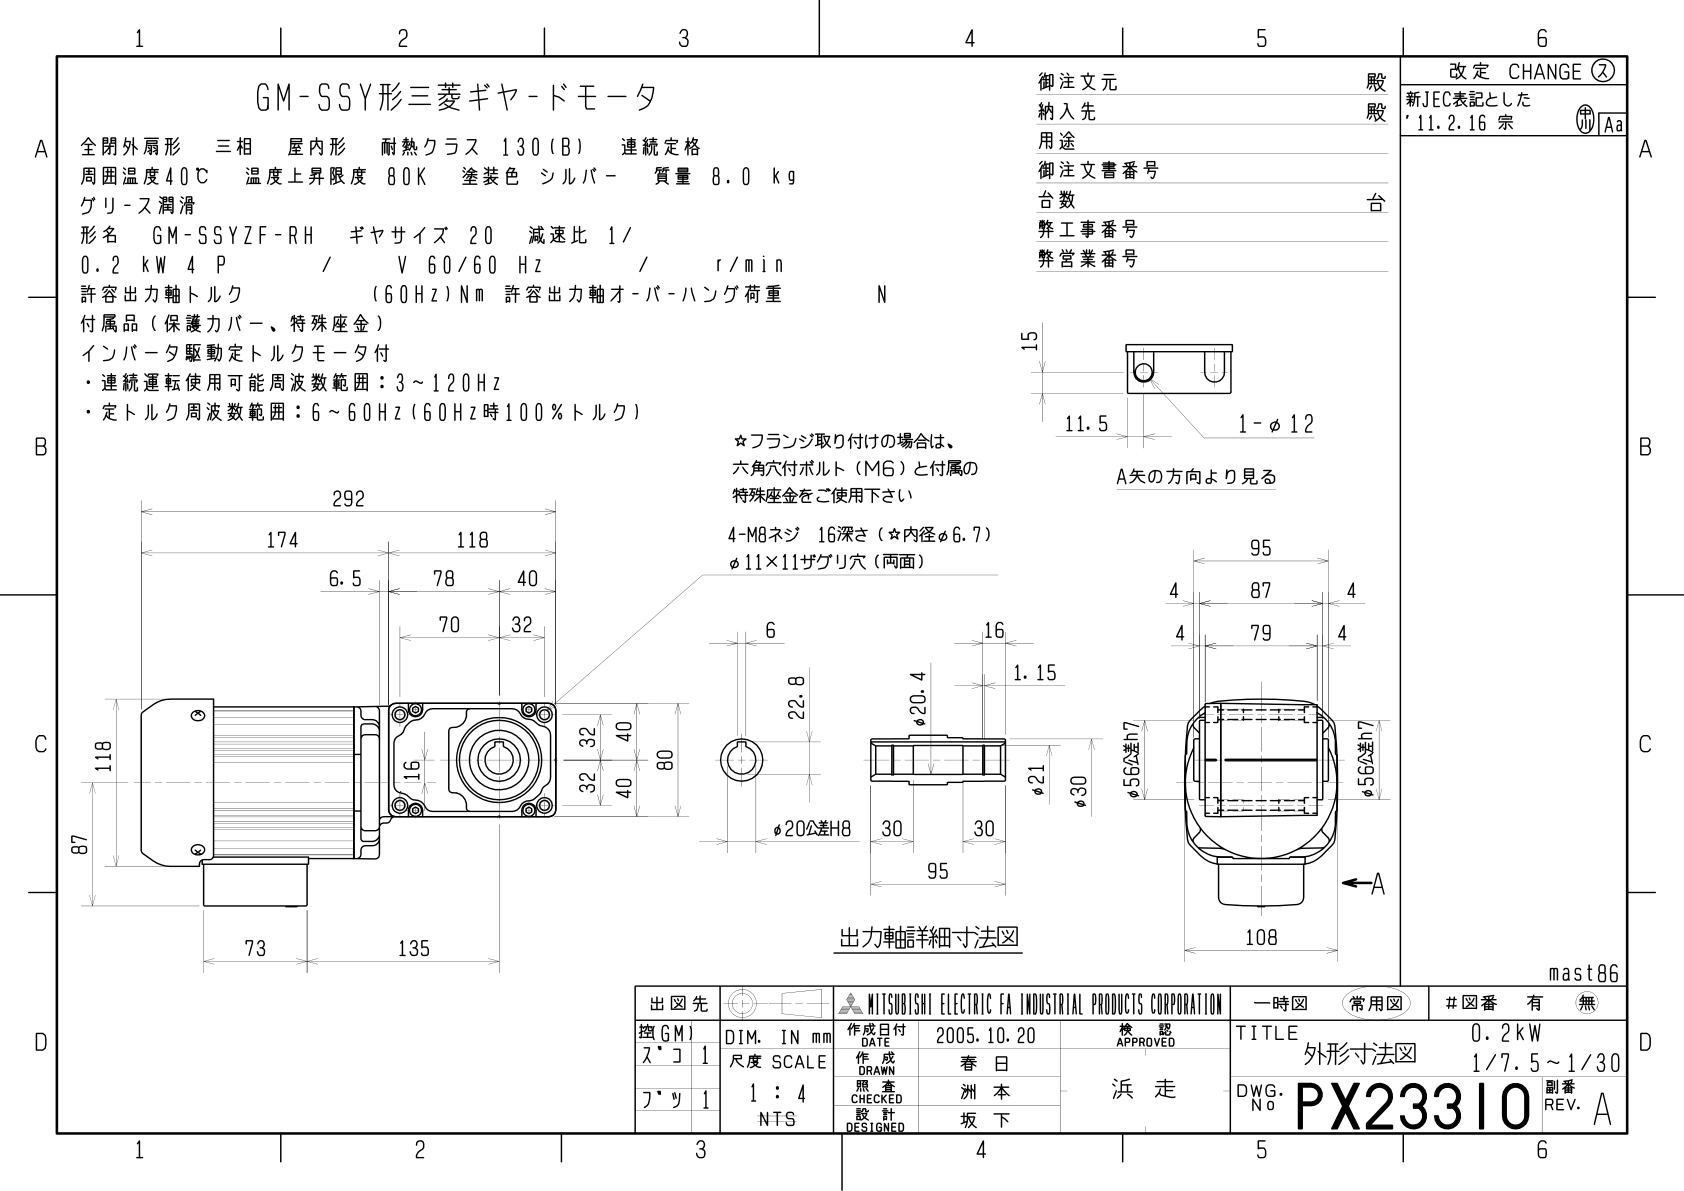GM_SSY_インバータ屋内_三相: (1, 1, 1661, 1169)
